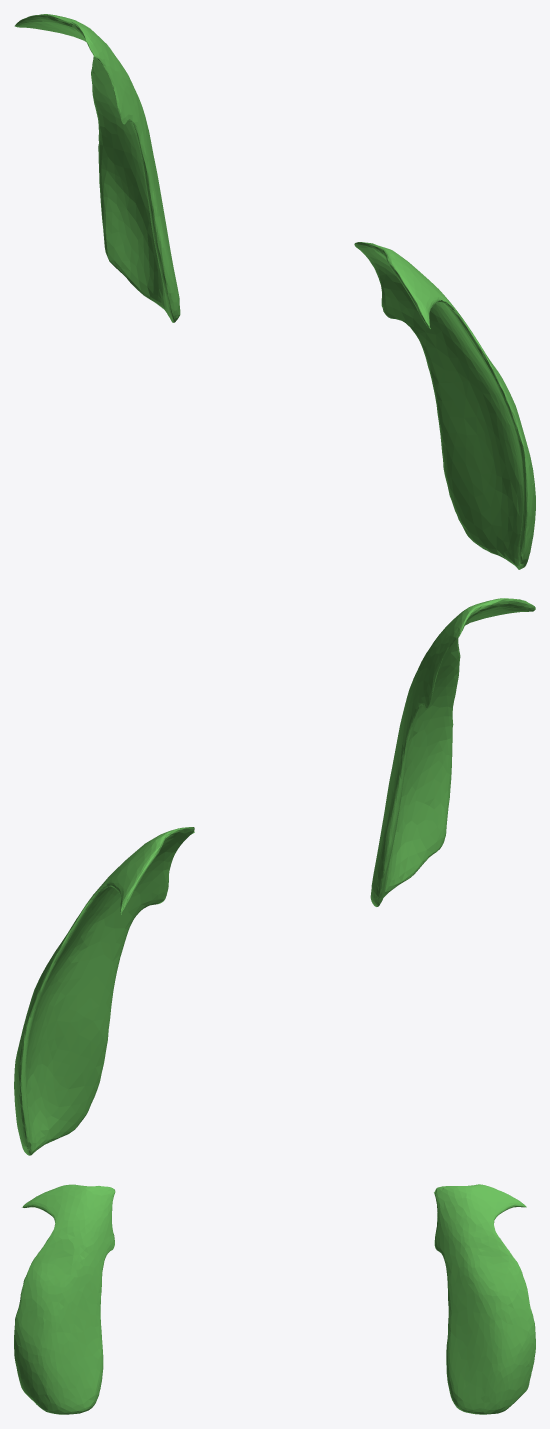
3 renders of one model, top to bottom at view 1: azimuth 30°, elevation 25°; view 2: azimuth 150°, elevation 25°; view 3: azimuth 270°, elevation 25°, orthographic. The views are drawn at different scales.
Visible parts, largest first — view 1: 526.obj; view 2: 526.obj; view 3: 526.obj.
Part boxes in pixels (<box>): 526.obj: <box>14,14,535,569</box>; 526.obj: <box>14,598,535,1155</box>; 526.obj: <box>14,1184,535,1414</box>.
Size of the model in its own units: 1496 by 3743 by 8975.
